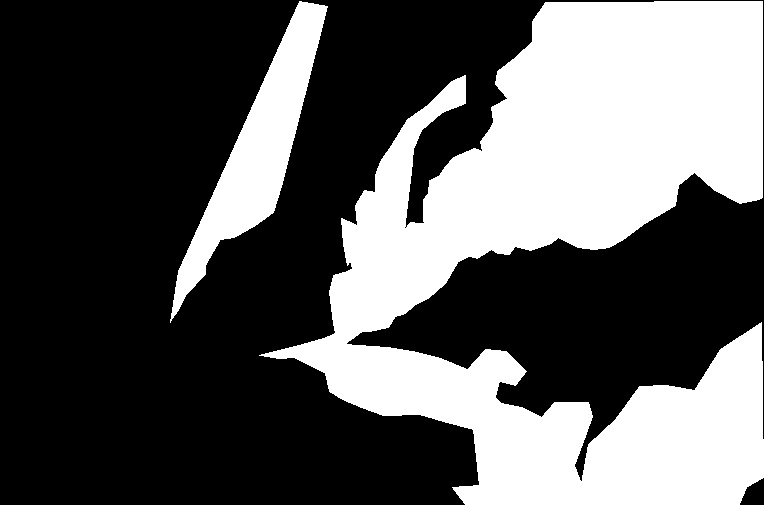Fire: (371, 130, 538, 308)
